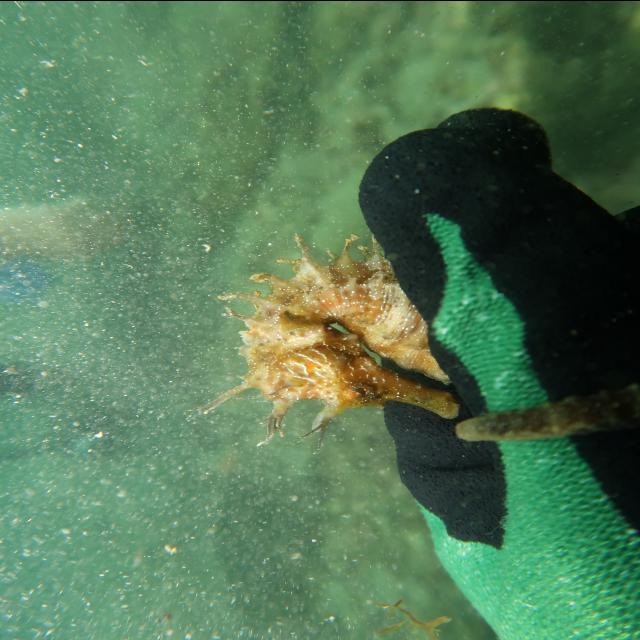Guttu: (230, 319, 466, 452)
